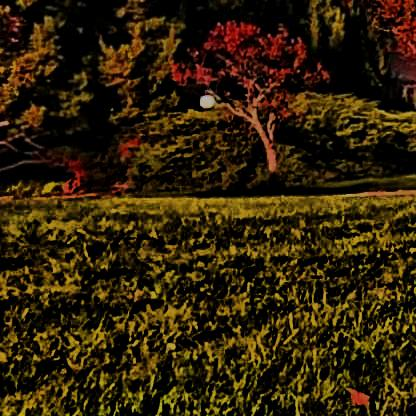golfball: (194, 91, 213, 106)
